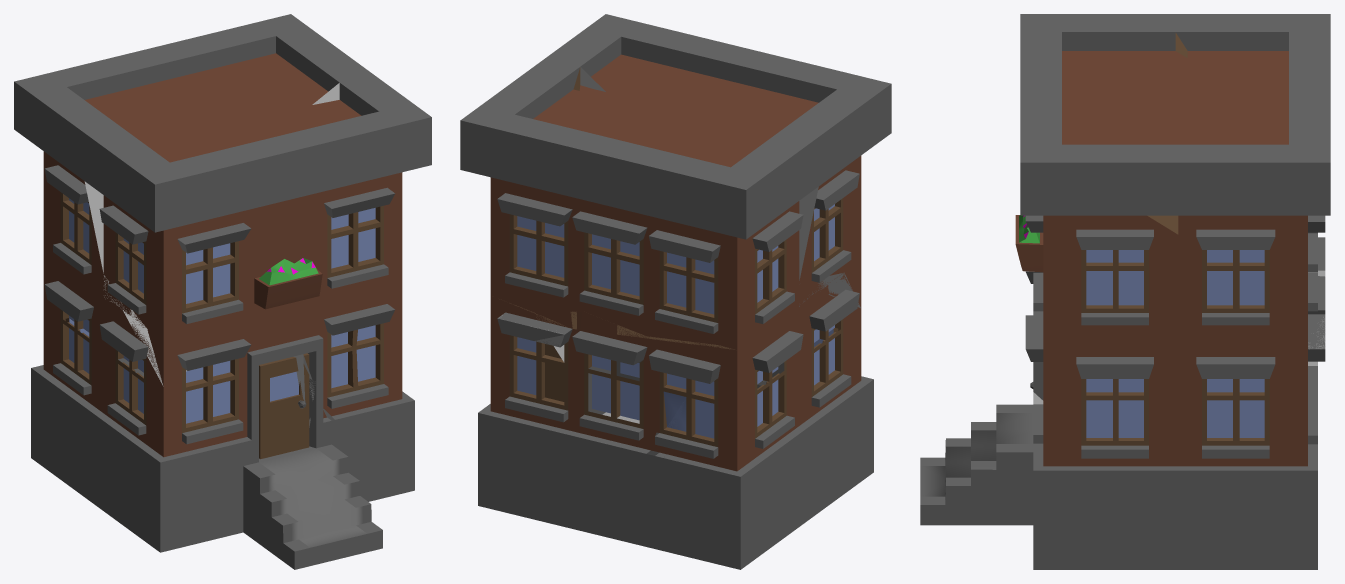
The model's file is Residential Pivot Fix.fbx.
3 views of the same model, side by side, from view 1: azimuth 30°, elevation 25°; view 2: azimuth 150°, elevation 25°; view 3: azimuth 270°, elevation 25° (orthographic). The views are drawn at different scales.
Visible parts, largest first — view 1: polySurface14, polySurface13, polySurface15, polySurface12; view 2: polySurface15, polySurface13, polySurface12, polySurface14; view 3: polySurface12, polySurface15, polySurface14, polySurface13.
Boxes of the visible parts, x1,y1,x2,y2 form: polySurface14: [84, 75, 431, 386]; polySurface13: [31, 252, 382, 569]; polySurface15: [14, 14, 373, 297]; polySurface12: [286, 289, 414, 500]; polySurface15: [460, 57, 818, 349]; polySurface13: [624, 273, 873, 569]; polySurface12: [478, 296, 716, 541]; polySurface14: [547, 14, 891, 308]; polySurface12: [1025, 240, 1325, 569]; polySurface15: [1147, 14, 1330, 351]; polySurface14: [1015, 14, 1175, 349]; polySurface13: [920, 237, 1325, 525].
Bounding box in the file's own units: 6.73 × 8.72 × 7.85.
